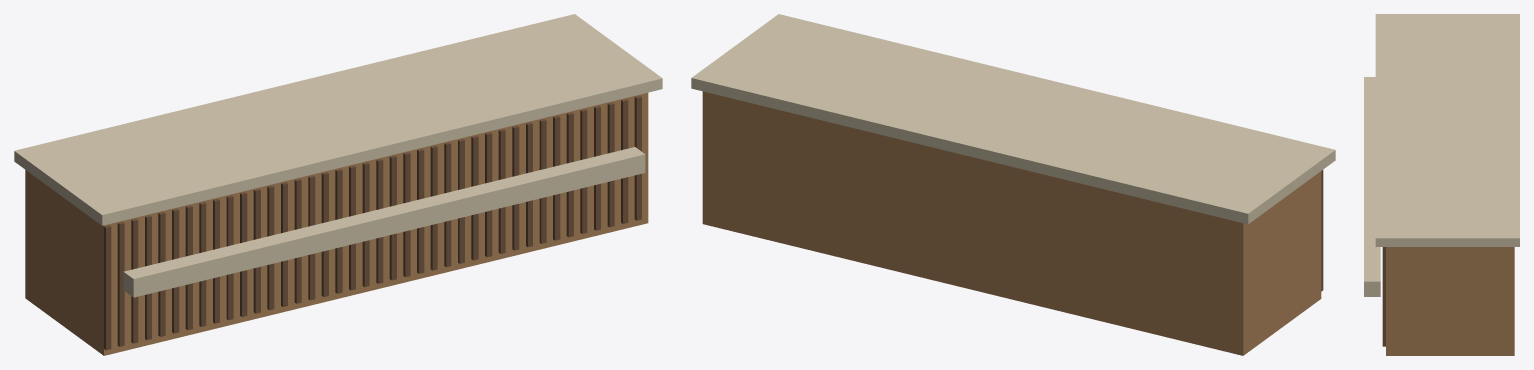
File: good.glb
The picture shows the model from 3 angles, left to right: view 1: azimuth 30°, elevation 25°; view 2: azimuth 150°, elevation 25°; view 3: azimuth 270°, elevation 25°; orthographic projection. The views are drawn at different scales.
Visible parts, largest first — view 1: starbucksCounter_41, starbucksCounter_0, starbucksCounter_42, starbucksCounter_1, starbucksCounter_2, starbucksCounter_40, starbucksCounter_3, starbucksCounter_7, starbucksCounter_10, starbucksCounter_22, starbucksCounter_34, starbucksCounter_35 (+31 smaller); view 2: starbucksCounter_0, starbucksCounter_41; view 3: starbucksCounter_41, starbucksCounter_0, starbucksCounter_42, starbucksCounter_40.
Part boxes in pixels (x1=…): starbucksCounter_41: x1=14, y1=14, x2=662, y2=225; starbucksCounter_0: x1=25, y1=92, x2=648, y2=355; starbucksCounter_42: x1=123, y1=147, x2=645, y2=297; starbucksCounter_1: x1=104, y1=225, x2=111, y2=350; starbucksCounter_2: x1=117, y1=222, x2=124, y2=346; starbucksCounter_40: x1=634, y1=95, x2=641, y2=220; starbucksCounter_3: x1=131, y1=218, x2=138, y2=343; starbucksCounter_7: x1=185, y1=205, x2=192, y2=330; starbucksCounter_10: x1=226, y1=195, x2=233, y2=320; starbucksCounter_22: x1=389, y1=155, x2=396, y2=280; starbucksCounter_34: x1=553, y1=115, x2=560, y2=240; starbucksCounter_35: x1=566, y1=112, x2=573, y2=237; starbucksCounter_0: x1=702, y1=91, x2=1321, y2=355; starbucksCounter_41: x1=691, y1=14, x2=1335, y2=224; starbucksCounter_41: x1=1375, y1=14, x2=1519, y2=246; starbucksCounter_0: x1=1386, y1=247, x2=1514, y2=355; starbucksCounter_42: x1=1364, y1=77, x2=1380, y2=296; starbucksCounter_40: x1=1382, y1=247, x2=1385, y2=346.
Bounding box in the file's own units: 4.12 × 1.04 × 1.21.
